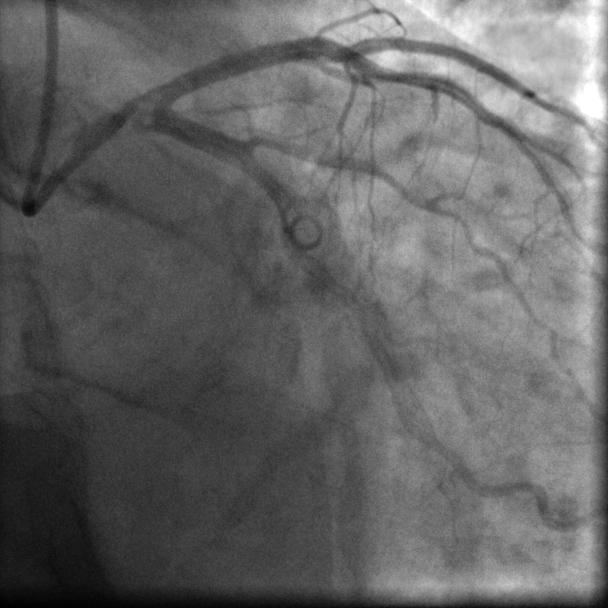Stenosis: (243, 128, 279, 154)
